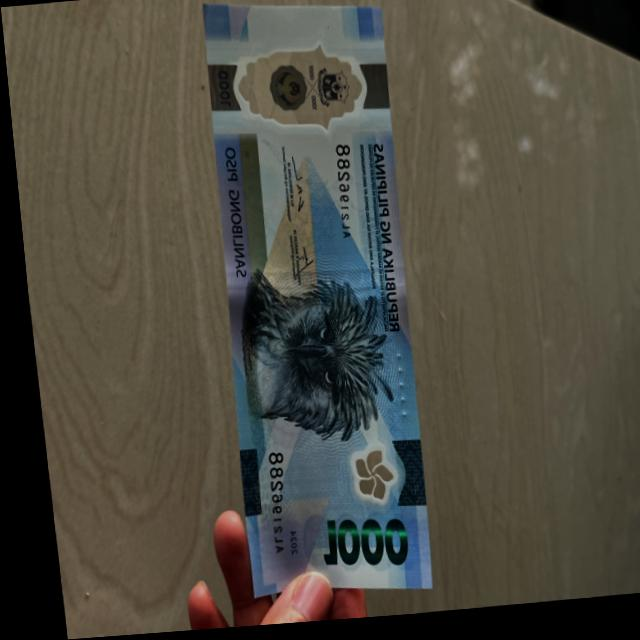clear_window: (232, 36, 367, 143)
eagle: (230, 274, 382, 447)
sampaguita: (340, 453, 388, 509)
